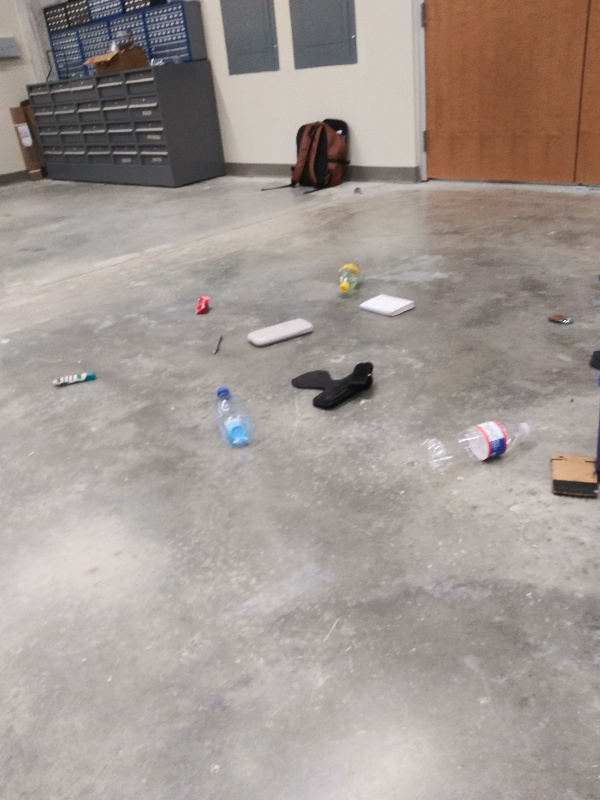bottle: (415, 411, 536, 478), (211, 382, 253, 451), (333, 256, 364, 297)
